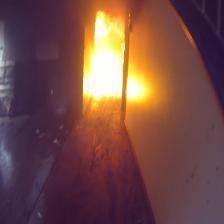fire: (83, 14, 123, 101)
